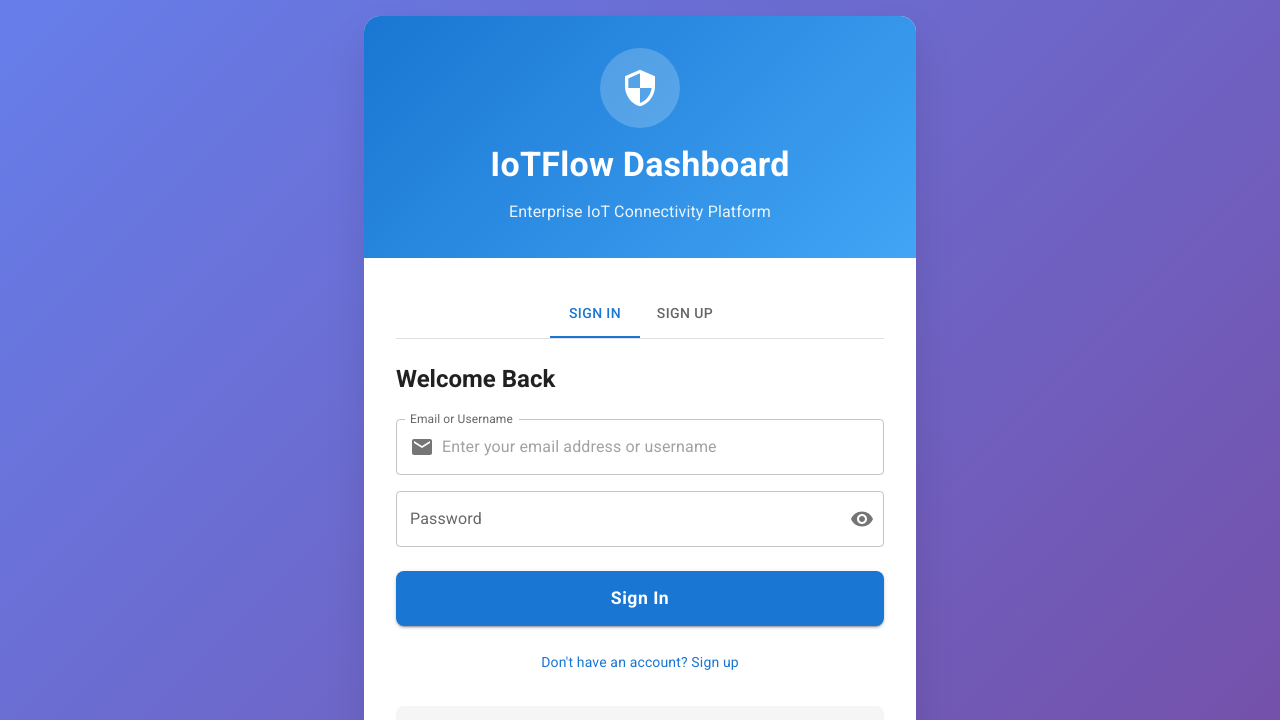
Test: Login Component Error Handling - TDD › Invalid Credentials Error Handling › should display error message for invalid credentials without page reload
Type "invalid@example.com" into the field labelled "Email or Username".
click(663, 447); type("invalid@example.com")  # box [442,419,884,475]
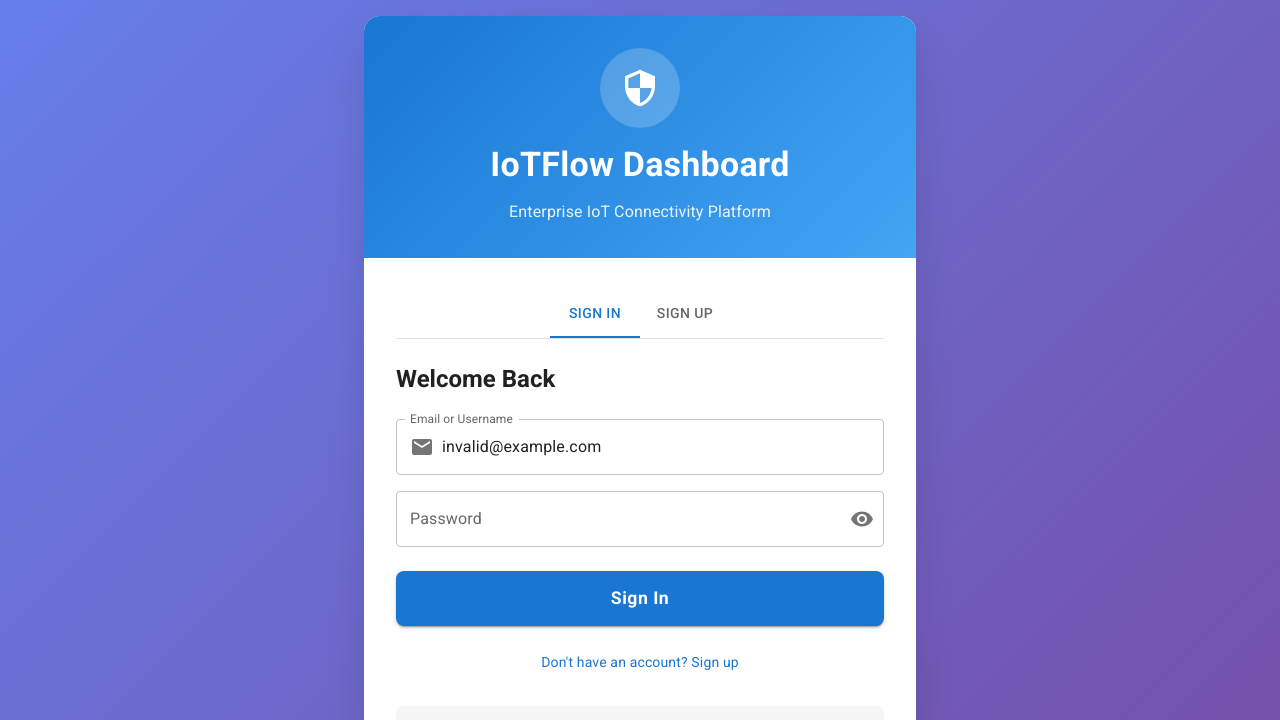
Type "wrongpassword" into the password field with placeholder "Enter your password".
click(615, 519); type("wrongpassword")  # box [396,491,834,547]
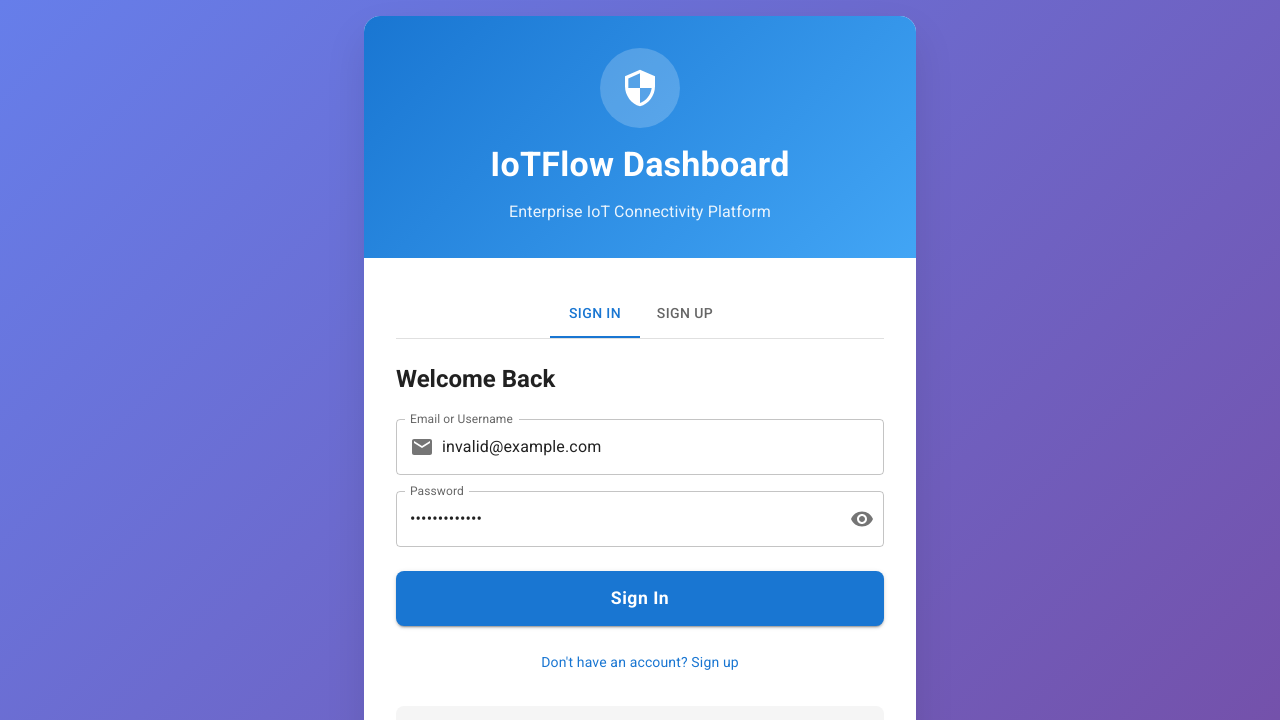
Note: Submit the form
Click the button "Sign In".
click(640, 598)  # box [396,571,884,626]
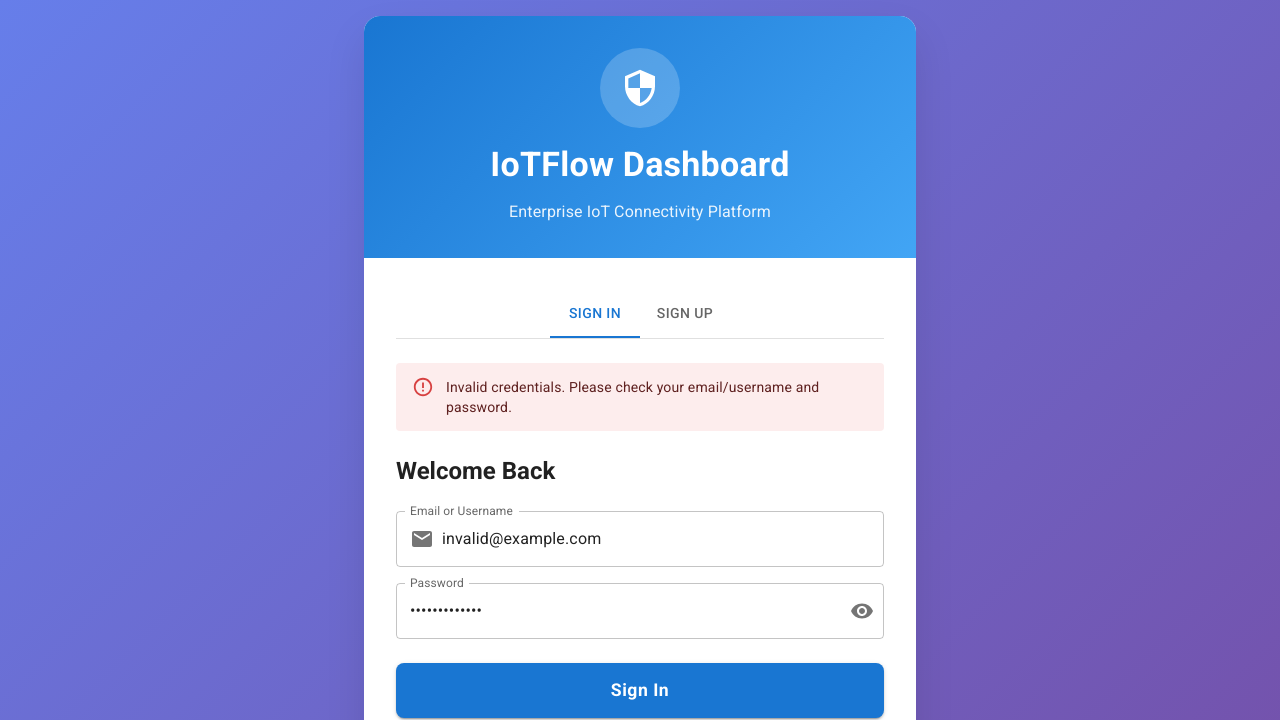
Check: the button "Sign In" is shown, box [396,663,884,718]
Check: the message "Invalid credentials. Please check your email/username and password." is shown, box [396,363,884,431]
Check: the message shows "Invalid credentials", box [446,379,819,415]
